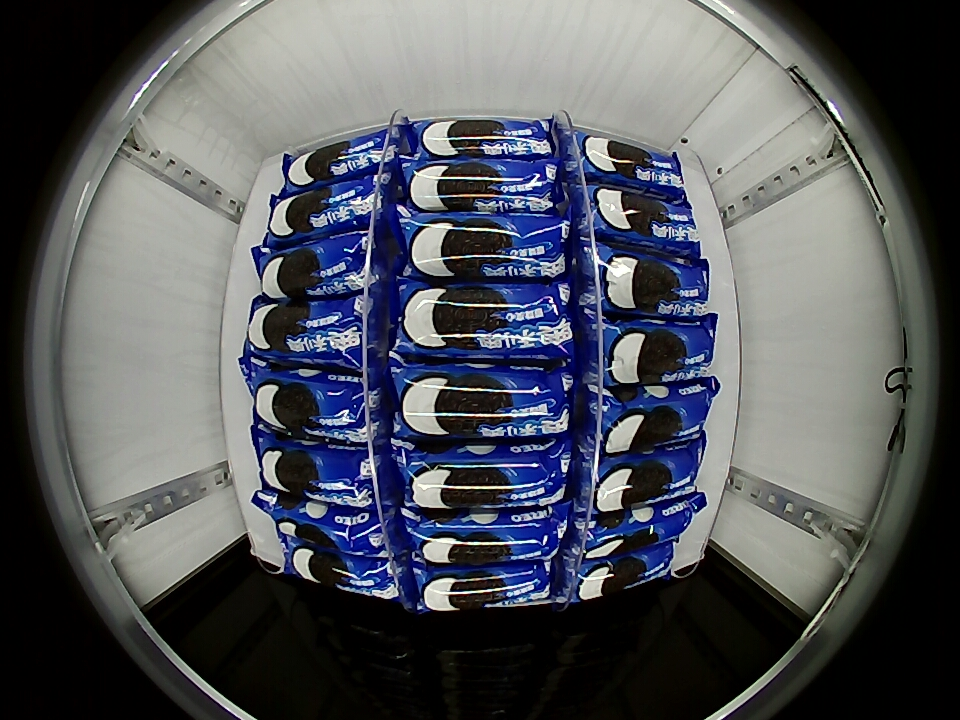aoliao: (392, 354, 575, 438), (399, 278, 575, 362), (394, 434, 574, 506), (402, 207, 573, 279), (243, 359, 380, 442), (400, 499, 572, 564), (578, 380, 714, 455), (244, 295, 372, 373), (573, 185, 703, 258), (574, 246, 711, 315), (254, 220, 373, 299), (588, 315, 718, 387), (578, 445, 711, 513), (570, 497, 706, 563), (407, 155, 562, 211), (254, 495, 387, 558), (565, 135, 690, 201), (246, 444, 376, 507), (413, 555, 555, 612), (562, 539, 684, 604), (261, 185, 393, 243), (282, 544, 404, 602), (409, 114, 558, 161), (285, 129, 398, 188)
